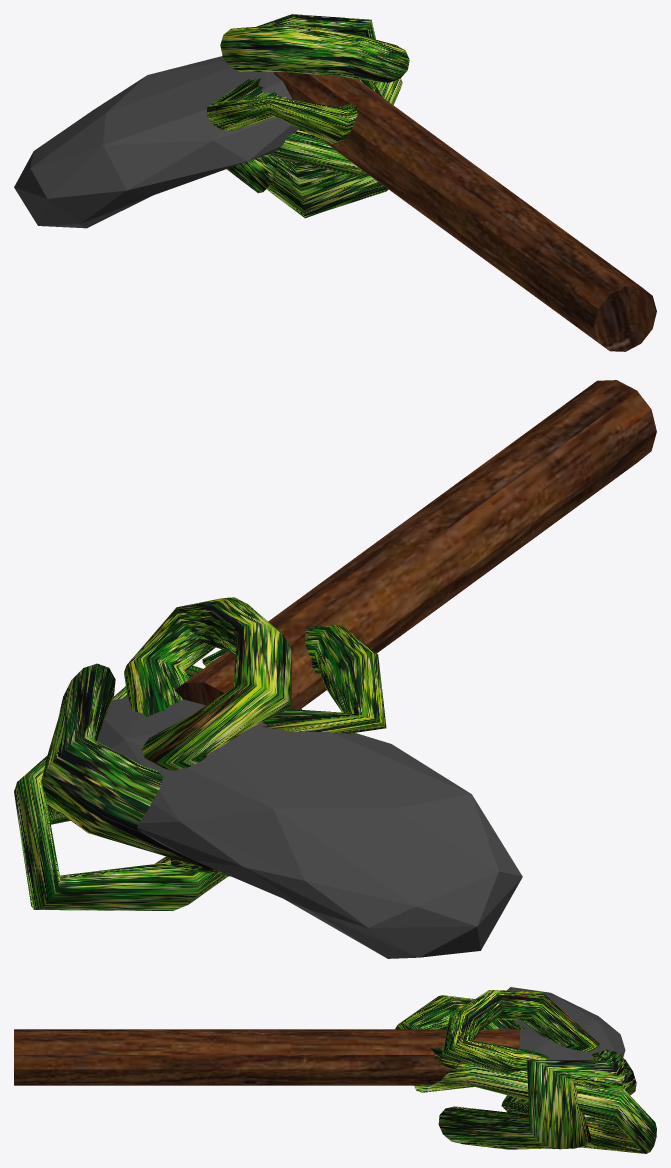
The model's file is balta.fbx.
3 views of the same model, one above another, from view 1: azimuth 30°, elevation 25°; view 2: azimuth 150°, elevation 25°; view 3: azimuth 270°, elevation 25° (orthographic). The views are drawn at different scales.
Parts seen in each view (by area): view 1: alta; view 2: alta; view 3: alta.
Part boxes in pixels (x1,y1,x2,y2): alta: [14, 14, 656, 351]; alta: [14, 380, 656, 958]; alta: [14, 987, 656, 1153].
Size of the model in its own units: 320 by 168 by 642.
